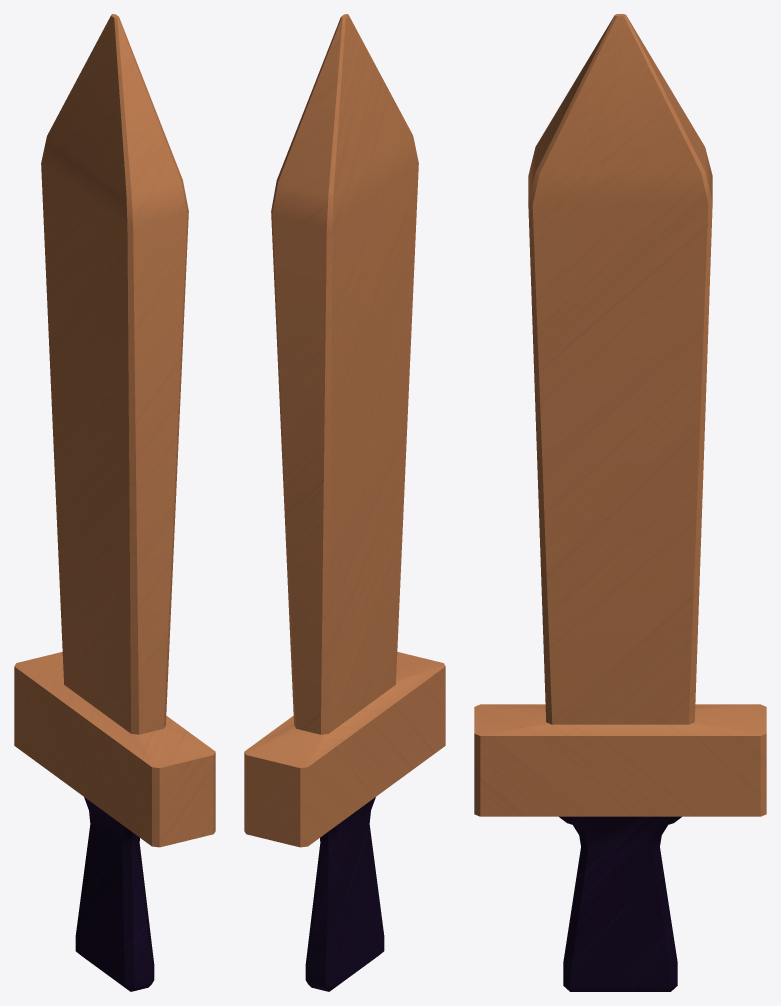
The model's file is SwordD.fbx.
3 views of the same model, side by side, from view 1: azimuth 30°, elevation 25°; view 2: azimuth 150°, elevation 25°; view 3: azimuth 270°, elevation 25° (orthographic).
Parts seen in each view (by area): view 1: sword D; view 2: sword D; view 3: sword D.
Boxes of the visible parts, bbox=[...] form: sword D: bbox=[14, 14, 215, 991]; sword D: bbox=[244, 14, 445, 991]; sword D: bbox=[474, 14, 766, 991].
Size of the model in its own units: 0.083 by 1.19 by 0.3235.
